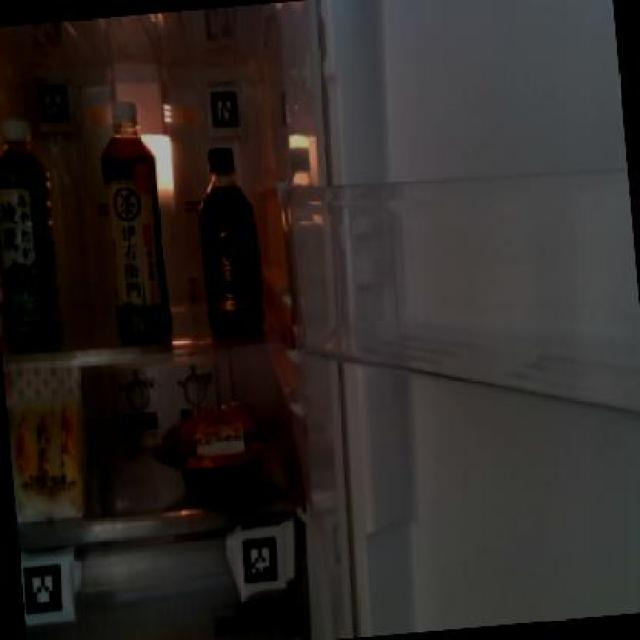bento: (152, 404, 292, 494)
coffee: (189, 142, 268, 338)
sandwich: (4, 362, 94, 523)
tea_a: (0, 124, 69, 358)
tea_i: (94, 97, 175, 349)
